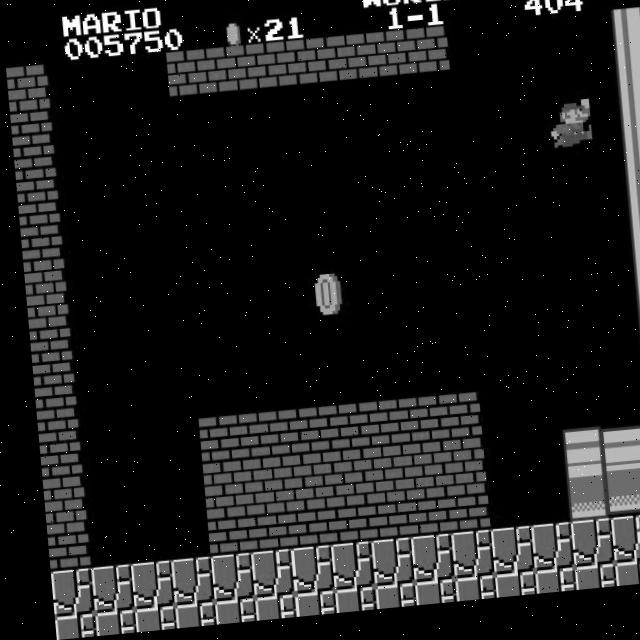1- brick_block: (164, 53, 209, 102), (204, 50, 249, 99), (244, 47, 289, 96), (284, 44, 329, 93), (324, 41, 369, 90), (364, 38, 409, 87), (404, 35, 449, 84), (14, 202, 58, 251), (193, 465, 237, 514), (196, 510, 240, 559), (233, 462, 277, 511), (236, 507, 280, 556), (273, 459, 317, 508), (276, 504, 320, 553), (313, 456, 357, 505), (316, 501, 360, 550), (353, 453, 397, 502), (356, 498, 400, 547), (393, 450, 437, 499), (396, 495, 440, 544), (433, 447, 477, 496), (436, 492, 480, 541), (190, 419, 234, 467), (230, 416, 274, 464), (270, 413, 314, 461), (310, 410, 354, 458), (350, 407, 394, 455), (390, 404, 434, 452), (430, 401, 474, 449), (5, 65, 48, 114), (18, 248, 61, 297), (24, 339, 67, 388), (27, 385, 70, 434), (37, 522, 80, 571), (8, 111, 51, 159), (11, 157, 54, 205), (21, 294, 64, 342), (30, 431, 73, 479), (34, 477, 77, 525)
11- little_mario: (543, 108, 590, 160)
14- pipe: (593, 434, 637, 484), (596, 480, 640, 529), (604, 20, 640, 69), (607, 66, 640, 114), (610, 112, 640, 160), (613, 157, 640, 206), (617, 203, 640, 252), (620, 249, 640, 297), (623, 294, 640, 343), (626, 340, 640, 389), (629, 386, 640, 434), (633, 432, 640, 480), (636, 477, 640, 526)
15- pipe_head: (553, 438, 597, 487), (556, 483, 600, 532)
17- undestructible_block: (79, 565, 124, 615), (119, 562, 164, 611), (159, 559, 204, 608), (199, 556, 244, 605), (239, 553, 284, 602), (279, 550, 324, 599), (319, 547, 364, 596), (359, 544, 404, 593), (399, 541, 444, 590), (439, 538, 484, 587), (479, 535, 524, 584), (519, 532, 564, 581), (559, 529, 604, 578), (40, 568, 83, 617), (599, 526, 640, 575), (83, 611, 125, 637), (123, 608, 165, 634), (163, 605, 205, 631), (203, 602, 245, 628), (243, 599, 285, 625), (283, 596, 325, 622), (323, 593, 365, 619), (363, 590, 405, 616), (403, 587, 445, 613), (443, 584, 485, 610), (483, 581, 525, 607), (523, 578, 565, 604), (563, 575, 605, 601), (43, 614, 85, 639), (603, 571, 640, 598), (639, 523, 640, 572)
2- coin: (300, 273, 344, 322)
